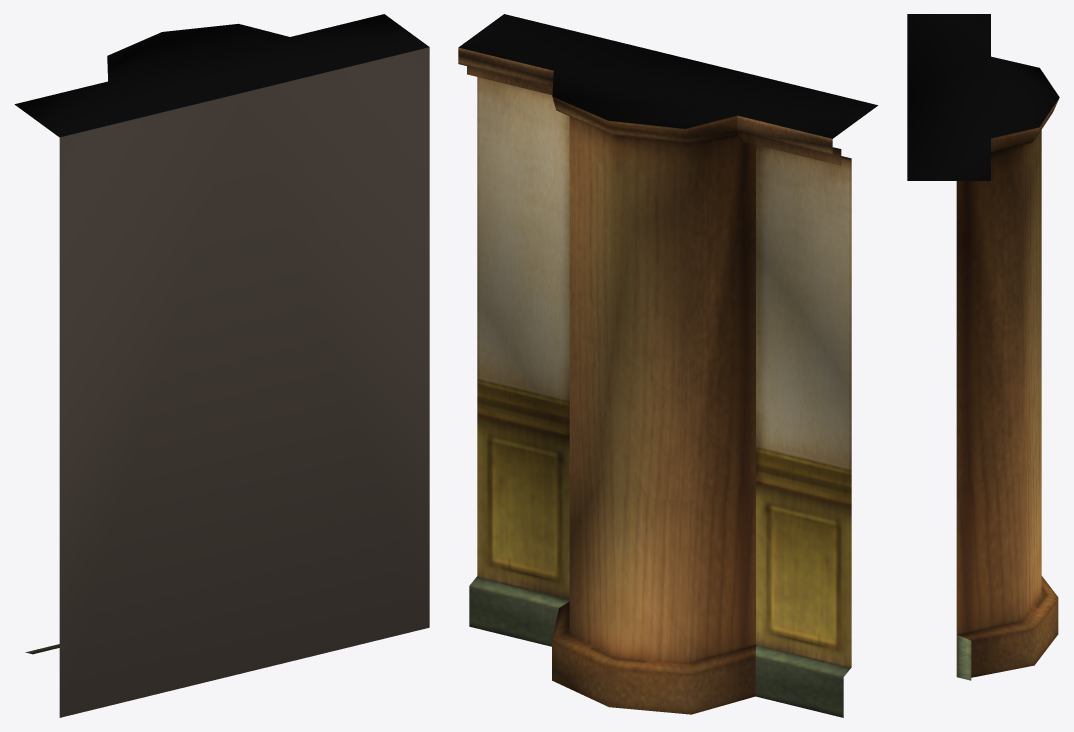
Rendered from a_SCwall06b.glb.
3 views of the same model, side by side, from view 1: azimuth 30°, elevation 25°; view 2: azimuth 150°, elevation 25°; view 3: azimuth 270°, elevation 25° (orthographic). The views are drawn at different scales.
Visible parts, largest first — view 1: a_SCwall06b; view 2: a_SCwall06b; view 3: a_SCwall06b.
Boxes of the visible parts, <box> form: a_SCwall06b: <box>14,14,429,717</box>; a_SCwall06b: <box>458,14,877,717</box>; a_SCwall06b: <box>907,14,1059,680</box>.
Bounding box in the file's own units: 2 × 3 × 0.7724.
1 material, 1 textured.
